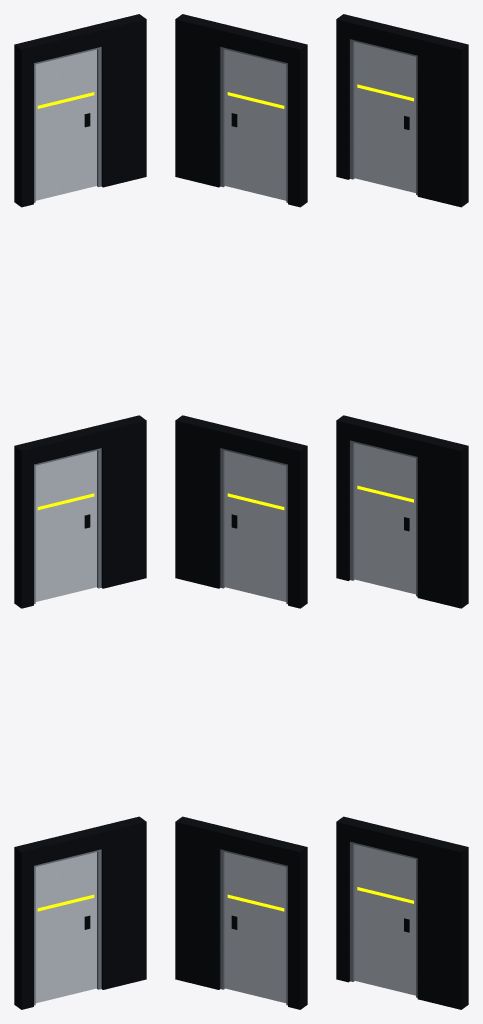
Rendered from tt_plant_stack_staff_doors_l.glb.
3 renders of one model, left to right at view 1: azimuth 30°, elevation 25°; view 2: azimuth 150°, elevation 25°; view 3: azimuth 330°, elevation 25°, orthographic.
Parts seen in each view (by area): view 1: Infill_Panel, Staff_Leaf, Door_Frame, Leaf_Amber_Band; view 2: Infill_Panel, Staff_Leaf, Door_Frame, Leaf_Amber_Band; view 3: Infill_Panel, Staff_Leaf, Door_Frame, Leaf_Amber_Band.
Boxes of the visible parts, left/top/right/bottom form: Infill_Panel: left=14, top=14, right=146, bottom=1009; Staff_Leaf: left=35, top=49, right=96, bottom=1003; Door_Frame: left=34, top=47, right=101, bottom=1005; Leaf_Amber_Band: left=37, top=92, right=94, bottom=911; Infill_Panel: left=175, top=14, right=307, bottom=1009; Staff_Leaf: left=225, top=49, right=286, bottom=1003; Door_Frame: left=220, top=47, right=287, bottom=1005; Leaf_Amber_Band: left=227, top=92, right=284, bottom=911; Infill_Panel: left=336, top=14, right=468, bottom=1009; Staff_Leaf: left=354, top=42, right=415, bottom=995; Door_Frame: left=350, top=39, right=417, bottom=997; Leaf_Amber_Band: left=357, top=84, right=413, bottom=903.
Size of what is drawn, in the model's own units: 1.99 by 14.6 by 0.2.
5 materials, 4 textured.
